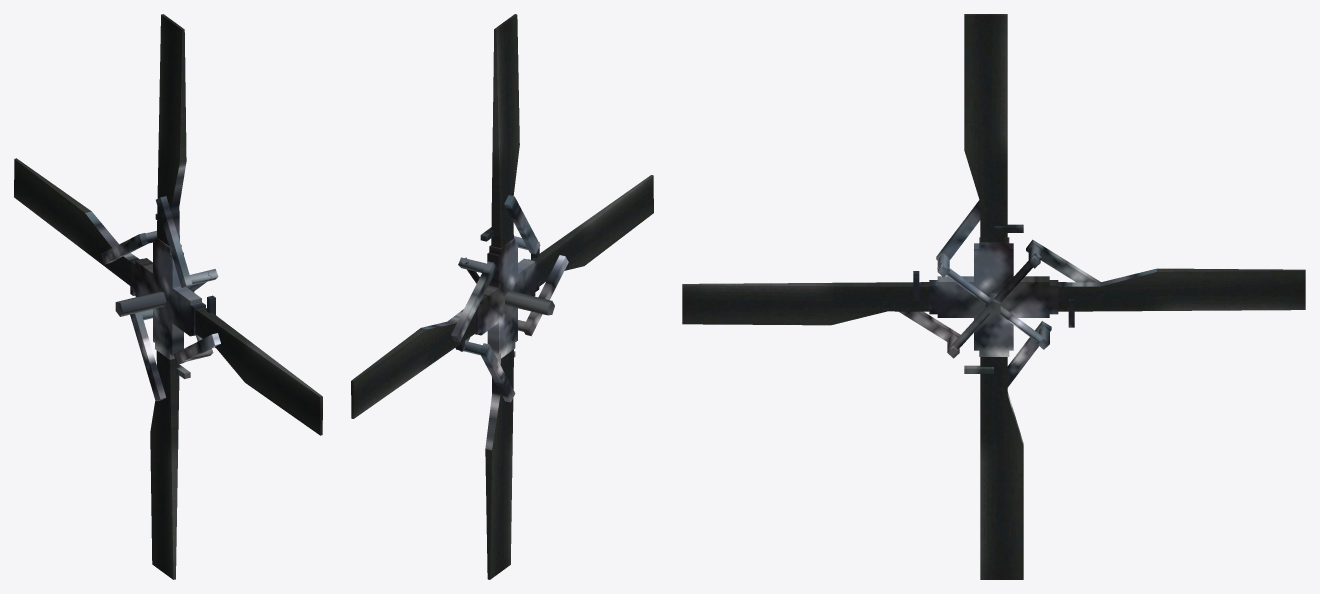
Rendered from tailRotor.obj.
The picture shows the model from 3 angles, left to right: view 1: azimuth 30°, elevation 25°; view 2: azimuth 150°, elevation 25°; view 3: azimuth 270°, elevation 25°; orthographic projection. The views are drawn at different scales.
Parts seen in each view (by area): view 1: rear_rotor; view 2: rear_rotor; view 3: rear_rotor.
Boxes of the visible parts, x1=… form: rear_rotor: x1=14, y1=14, x2=322, y2=579; rear_rotor: x1=351, y1=14, x2=653, y2=579; rear_rotor: x1=682, y1=14, x2=1305, y2=579.
Bounding box in the file's own units: 0.3684 × 2.71 × 2.71.
Materials: 1 (1 with a texture image).
